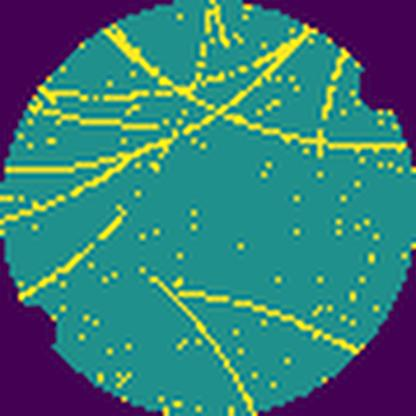Scratch: (0, 0, 409, 231), (145, 273, 261, 416), (174, 287, 363, 356), (18, 202, 130, 298)
